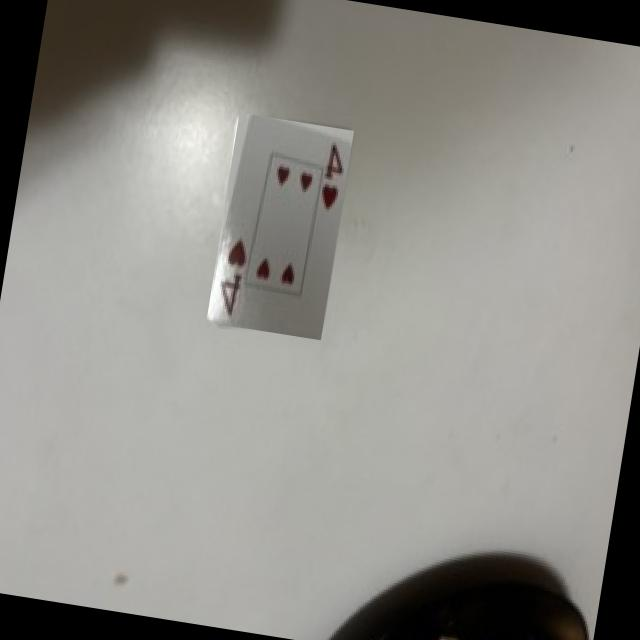4 of hearts: (206, 115, 350, 337)
